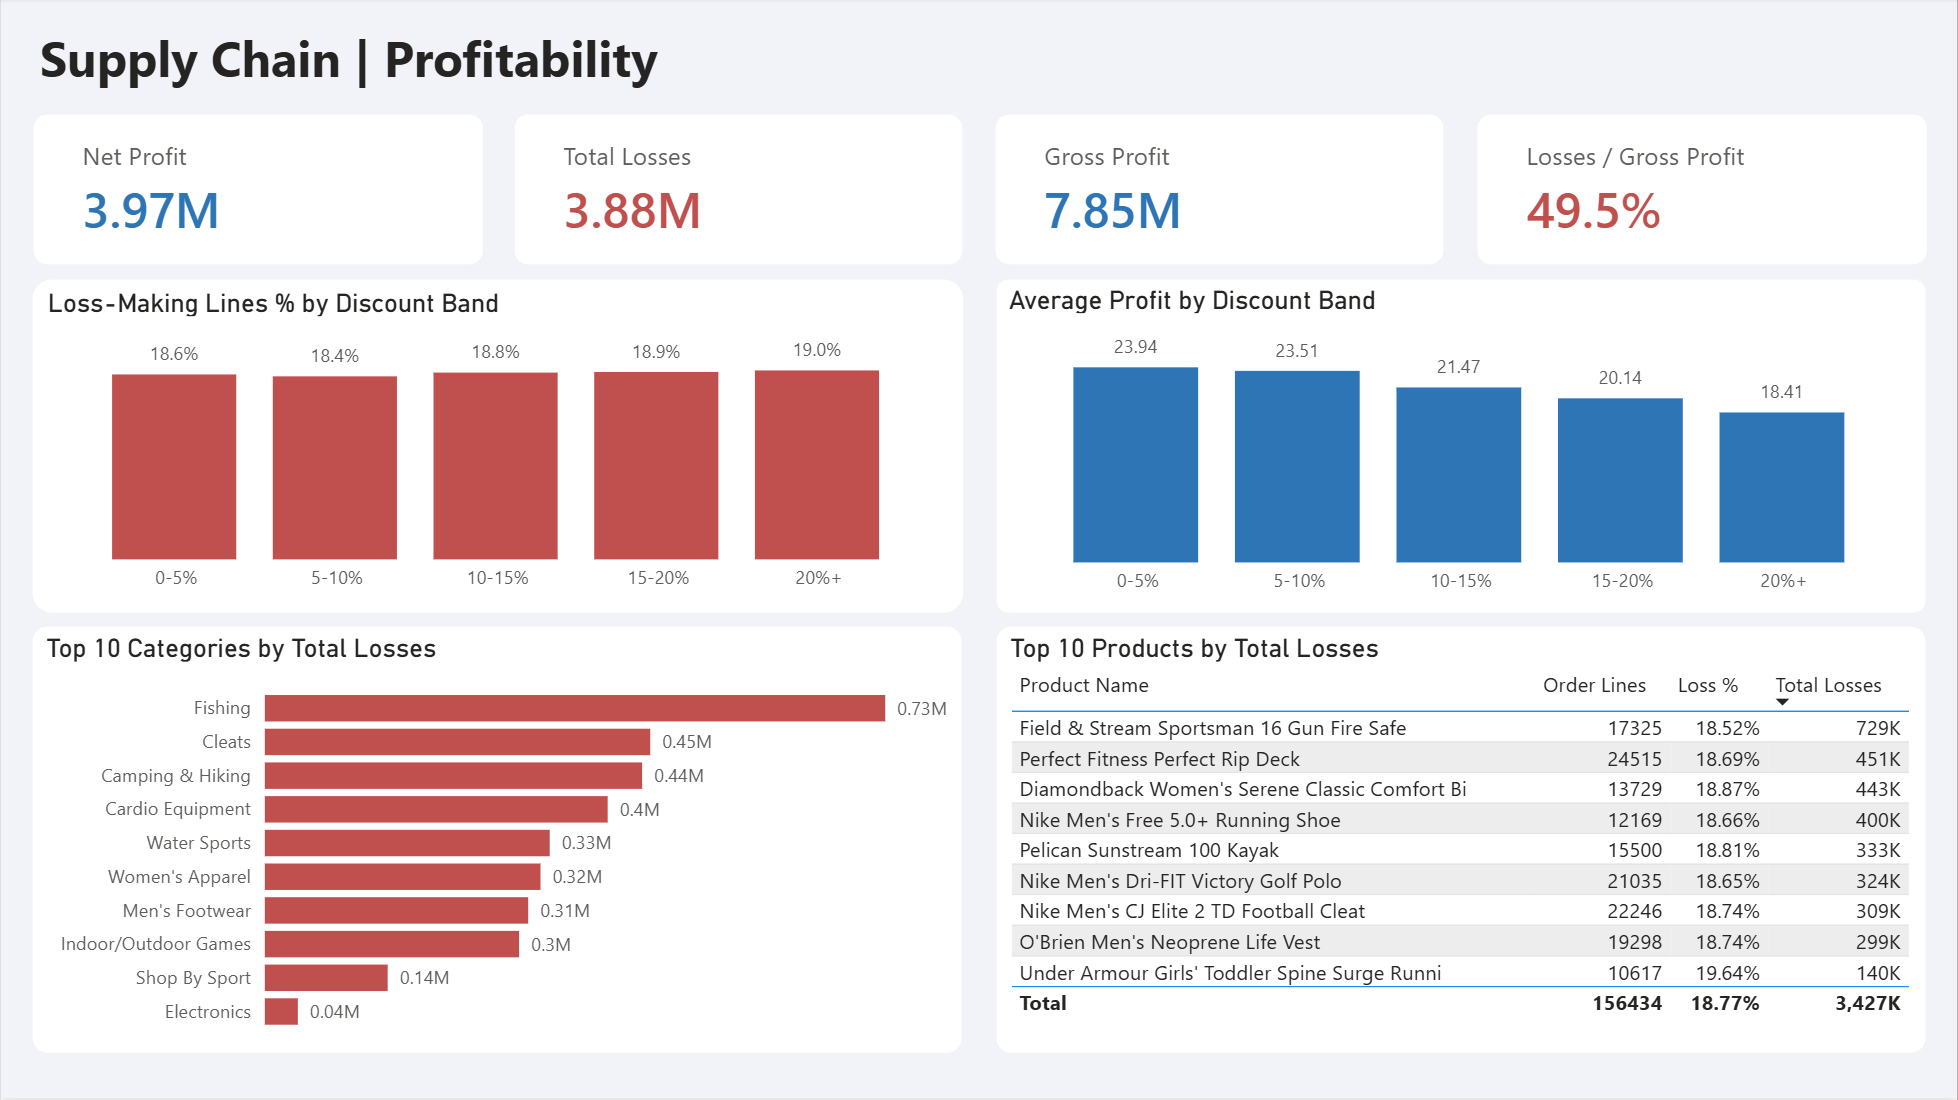

This screenshot's page, from the dashboard's own definition file:
{"tool":"powerbi","page":{"name":"Profitability","canvas":[1280,720],"ordinal":2},"visuals":[{"type":"textbox","box":[20,12,800.2,55],"z":0},{"type":"cardVisual","fields":{"Data":["clean_orders.Net Profit"]},"box":[20,75,295.6,100],"z":1000},{"type":"cardVisual","fields":{"Data":["clean_orders.Gross Profit"]},"box":[650,75,295,100],"z":2000},{"type":"cardVisual","fields":{"Data":["clean_orders.Losses as % of Gross Profit"]},"box":[965,75,295.6,100],"z":3000},{"type":"cardVisual","fields":{"Data":["clean_orders.Total Losses"]},"box":[335,75,295,100],"z":4000},{"type":"clusteredColumnChart","fields":{"Category":["clean_orders.Discount Band"],"Y":["clean_orders.Loss-Making Lines %"]},"box":[19.8,183,610.9,220.1],"z":5000},{"type":"clusteredColumnChart","title":"Average Profit by Discount Band","fields":{"Category":["clean_orders.Discount Band"],"Y":["clean_orders.Avg Profit per Line"]},"box":[650.5,183,610,220.1],"z":6000},{"type":"clusteredBarChart","title":"Top 10 Categories by Total Losses","fields":{"Category":["clean_orders.Category Name"],"Y":["clean_orders.Total Losses"]},"box":[19.8,410.6,609.7,280.7],"z":7000},{"type":"tableEx","title":"Top 10 Products by Total Losses","fields":{"Values":["clean_orders.Product Name","clean_orders.Order Lines","clean_orders.Loss-Making Lines %","clean_orders.Total Losses"]},"box":[650.5,410.6,609.7,280.7],"z":8000}]}

Visuals, with their boxes in screenshot pixels (x1, y1, x2, y2), scaled from the page's 1280x720 canvas onto the 1958x1100 screenshot:
textbox: (31,18,1255,102)
cardVisual - clean_orders.Net Profit: (31,115,483,267)
cardVisual - clean_orders.Gross Profit: (994,115,1446,267)
cardVisual - clean_orders.Losses as % of Gross Profit: (1476,115,1928,267)
cardVisual - clean_orders.Total Losses: (512,115,964,267)
clusteredColumnChart - clean_orders.Discount Band x clean_orders.Loss-Making Lines %: (30,280,965,616)
"Average Profit by Discount Band" clusteredColumnChart: (995,280,1928,616)
"Top 10 Categories by Total Losses" clusteredBarChart: (30,627,963,1056)
"Top 10 Products by Total Losses" tableEx: (995,627,1928,1056)
